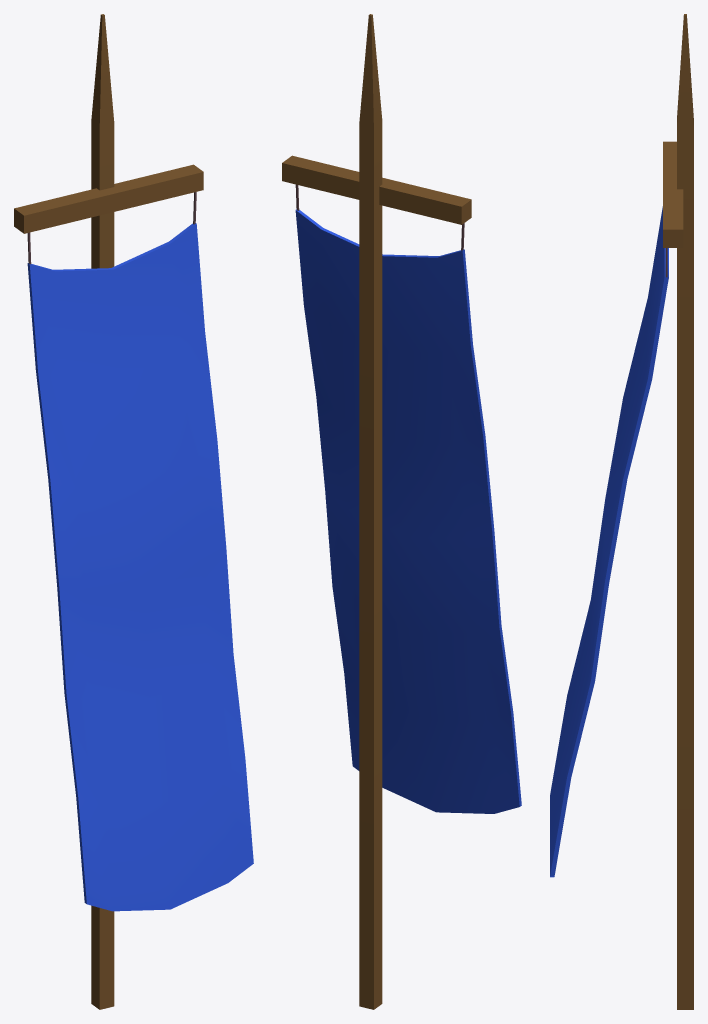
Rendered from Blue_Flag.fbx.
3 renders of one model, left to right at view 1: azimuth 30°, elevation 25°; view 2: azimuth 150°, elevation 25°; view 3: azimuth 270°, elevation 25°, orthographic.
Visible parts, largest first — view 1: Blue_Flag; view 2: Blue_Flag; view 3: Blue_Flag.
Boxes of the visible parts, box(x1,y1,x2,y2) form: Blue_Flag: box(14, 14, 253, 1009); Blue_Flag: box(282, 14, 521, 1009); Blue_Flag: box(550, 14, 693, 1009).
Size of the model in its own units: 380 by 2003 by 263.
